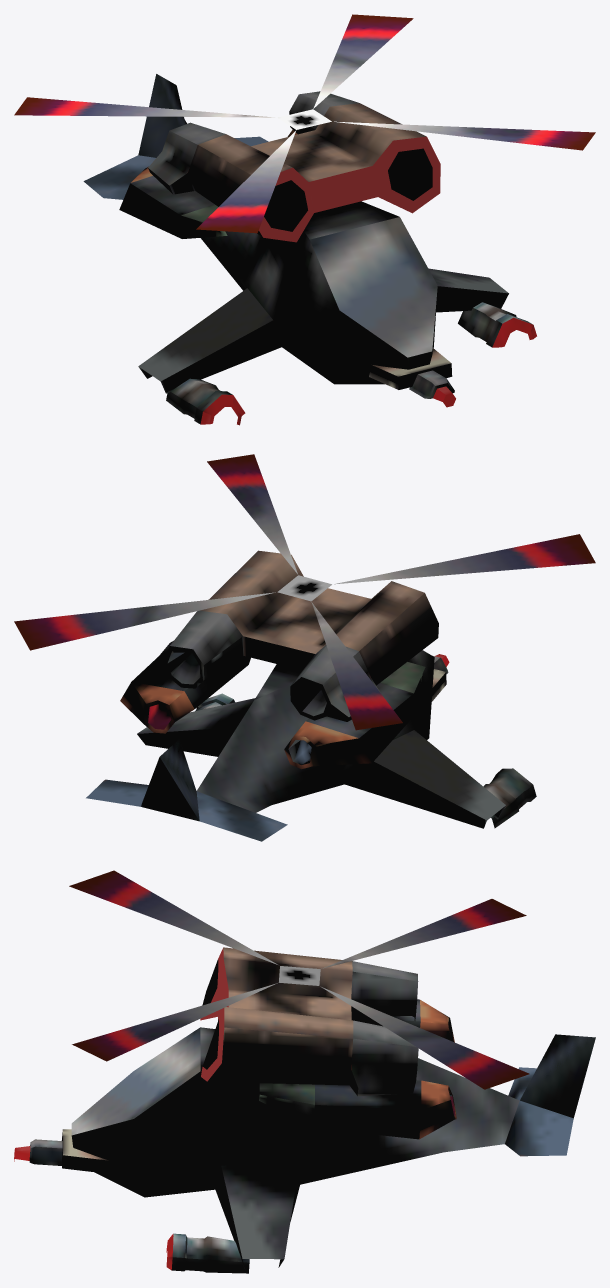
The model's file is icon.ico.obj.
3 renders of one model, top to bottom at view 1: azimuth 30°, elevation 25°; view 2: azimuth 150°, elevation 25°; view 3: azimuth 270°, elevation 25°, orthographic.
Size of the model in its own units: 4 by 2.24 by 4.99.
1 material, 1 textured.
